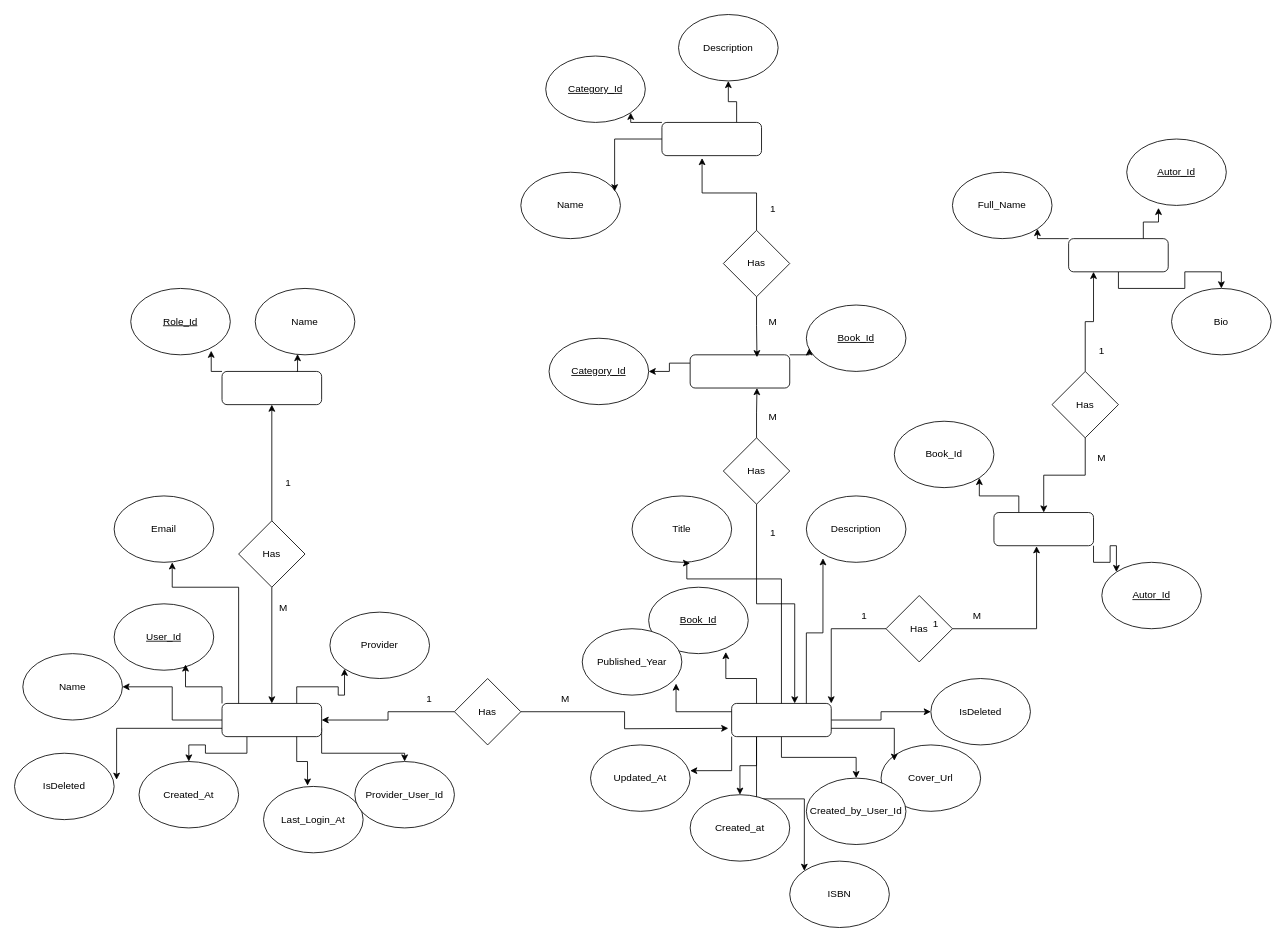
Some shapes in this 1286 by 942 pixel diagram are drawn without their labels. Each missing label, with the box of its shape:
Author: (1068, 238, 1168, 272)
Book_Author: (993, 512, 1094, 546)
Book_Category: (689, 354, 790, 388)
Books: (731, 703, 831, 737)
Category: (661, 122, 762, 156)
Roles: (221, 371, 322, 405)
Users: (221, 703, 322, 737)
